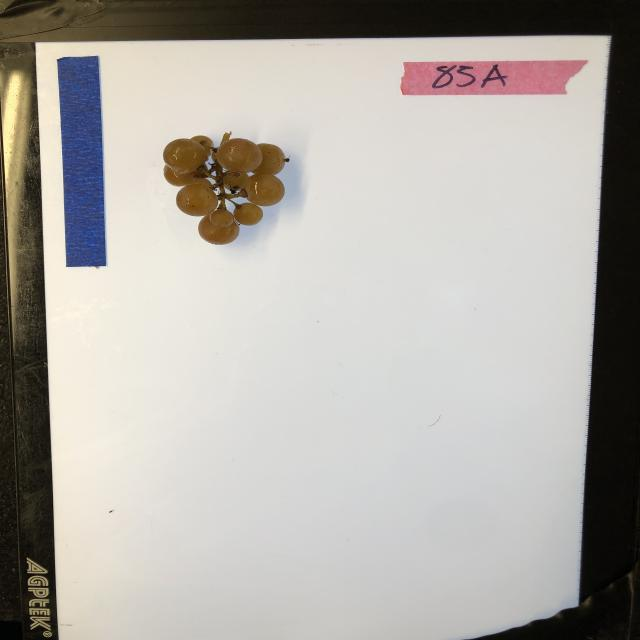grape_cluster: (162, 130, 291, 244)
index: (399, 59, 588, 95)
measure_label: (58, 55, 108, 268)
